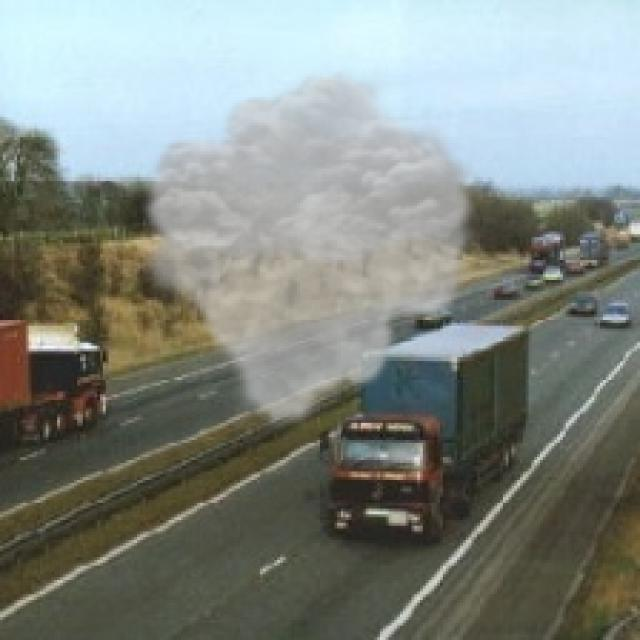Smoke: (134, 69, 483, 432)
